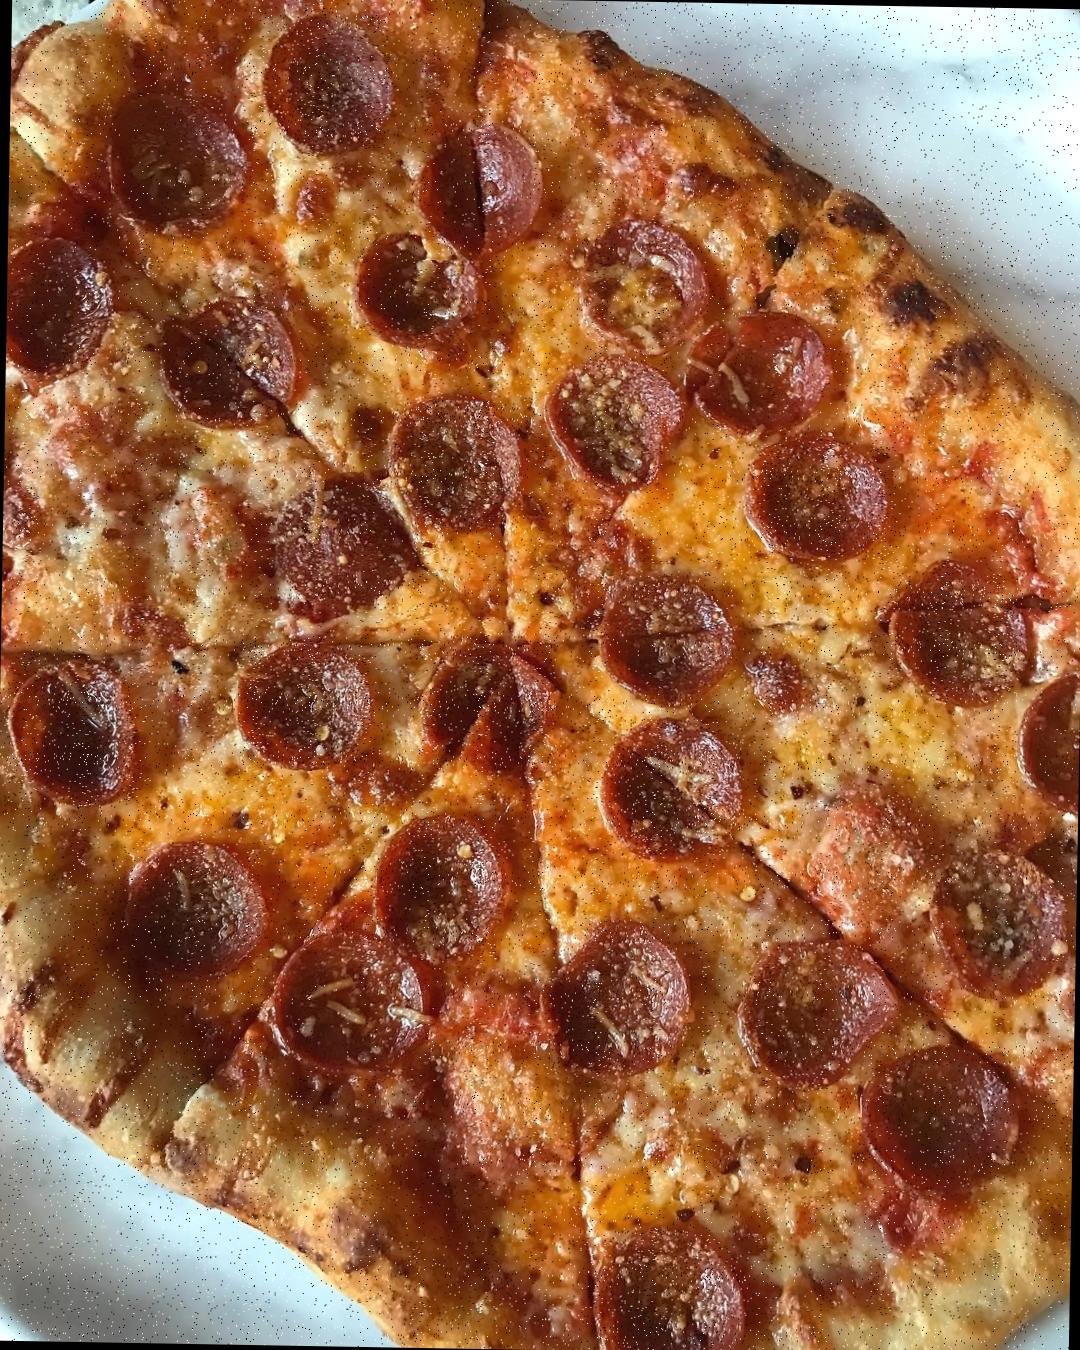Pepperoni: (857, 1046, 1016, 1187), (546, 925, 685, 1078), (273, 936, 429, 1068), (3, 658, 137, 806), (742, 943, 892, 1074), (161, 293, 302, 431), (606, 719, 745, 856), (110, 97, 251, 227), (417, 125, 548, 262), (746, 438, 889, 562), (121, 842, 260, 970), (938, 856, 1072, 987), (593, 1230, 739, 1350), (376, 819, 501, 959), (548, 359, 679, 493), (6, 239, 117, 393), (685, 313, 829, 430), (886, 572, 1023, 693), (276, 490, 412, 609), (238, 642, 368, 767), (270, 14, 389, 150), (391, 400, 522, 522), (431, 644, 554, 770), (604, 577, 730, 700), (583, 219, 700, 337), (358, 235, 473, 342), (1016, 679, 1080, 810)
Pizza: (0, 0, 1080, 1350)
